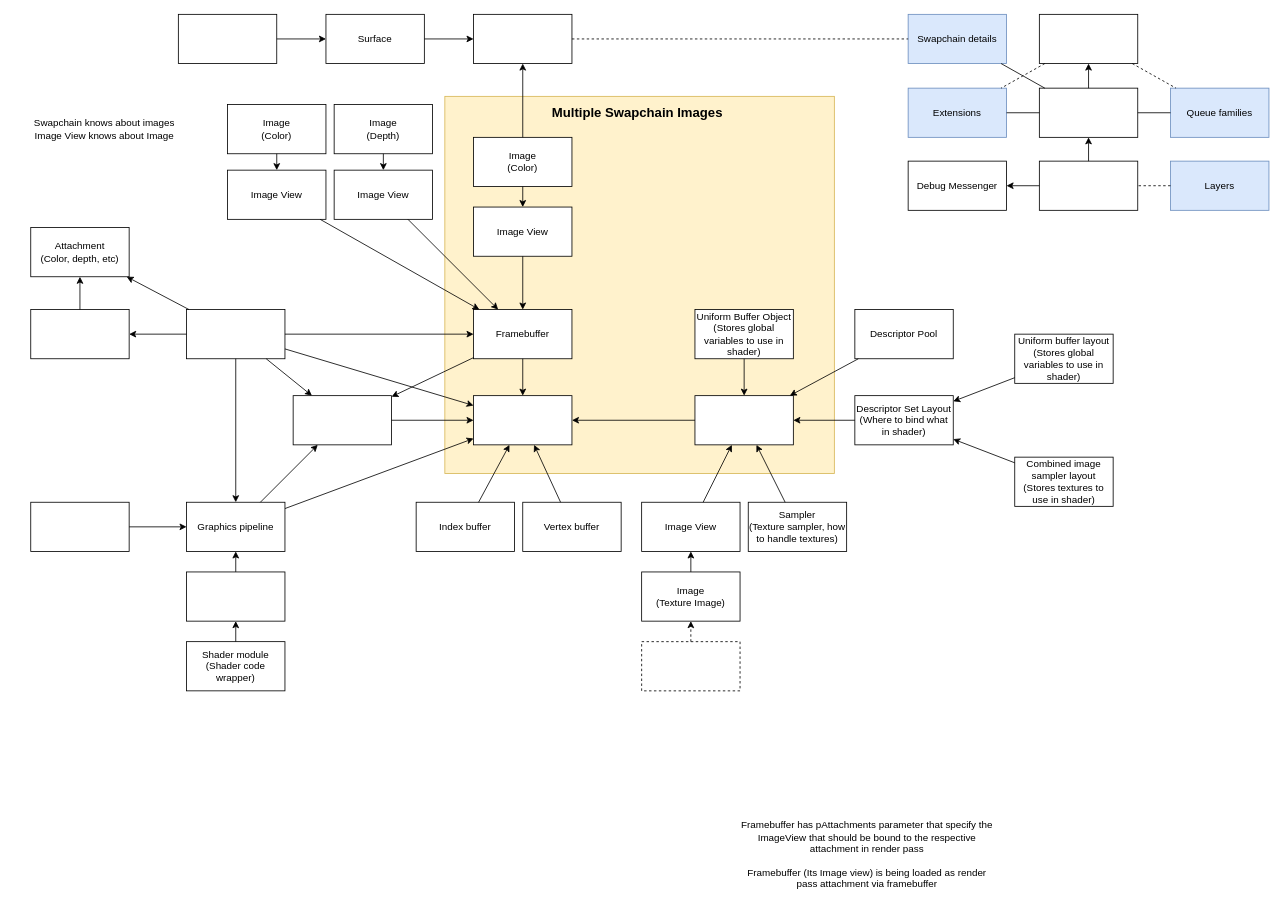
Some shapes in this 1283 by 923 pixel diagram are drawn without their labels. The box of each missing label's shape, as (x1, y1, x2, y2) in pixels:
Command buffer: (473, 395, 572, 445)
Command pool: (292, 395, 392, 445)
Descriptor Set: (694, 395, 793, 445)
Instance (app info, name version, etc): (1039, 160, 1138, 210)
Logical Device: (1039, 14, 1138, 64)
Physical Device: (1039, 87, 1138, 137)
Pipeline layout (Info about uniforms): (30, 501, 129, 551)
Render pass: (186, 309, 285, 359)
Shader stage: (186, 571, 285, 621)
Subpass: (30, 309, 129, 359)
Swapchain: (473, 14, 572, 64)
Texture file: (641, 641, 740, 691)
Window: (178, 14, 277, 64)
